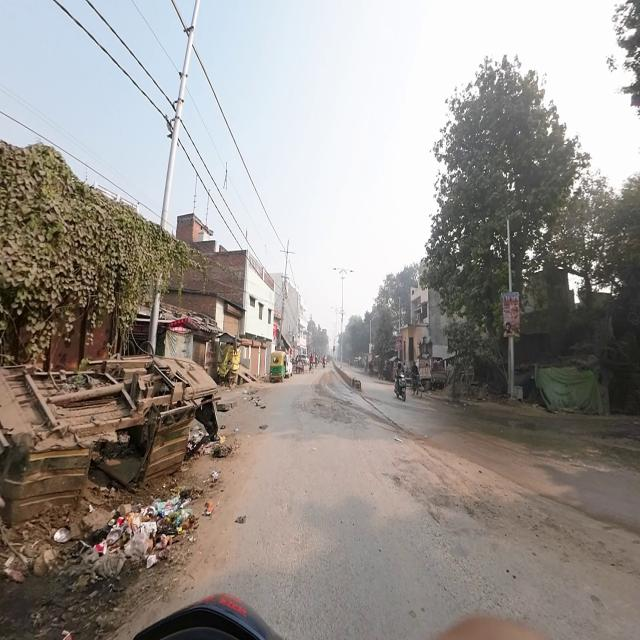Garbage: (4, 495, 141, 628), (145, 468, 219, 560), (195, 425, 238, 460), (247, 389, 269, 412)
